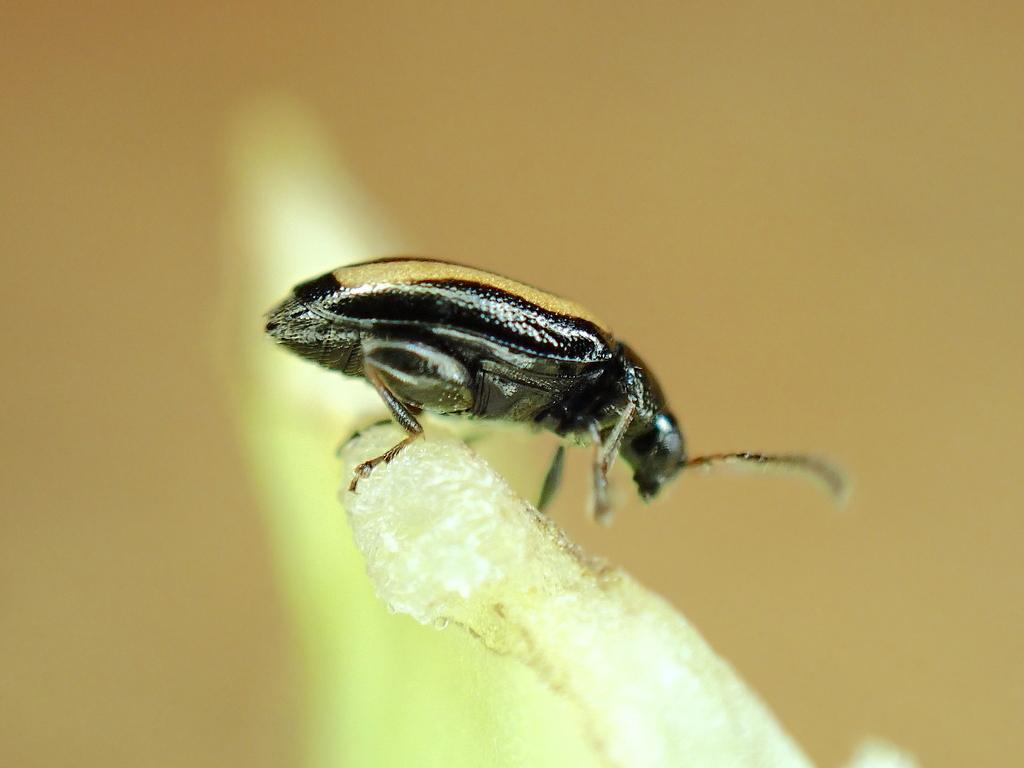flea_beetle: (229, 194, 885, 604)
